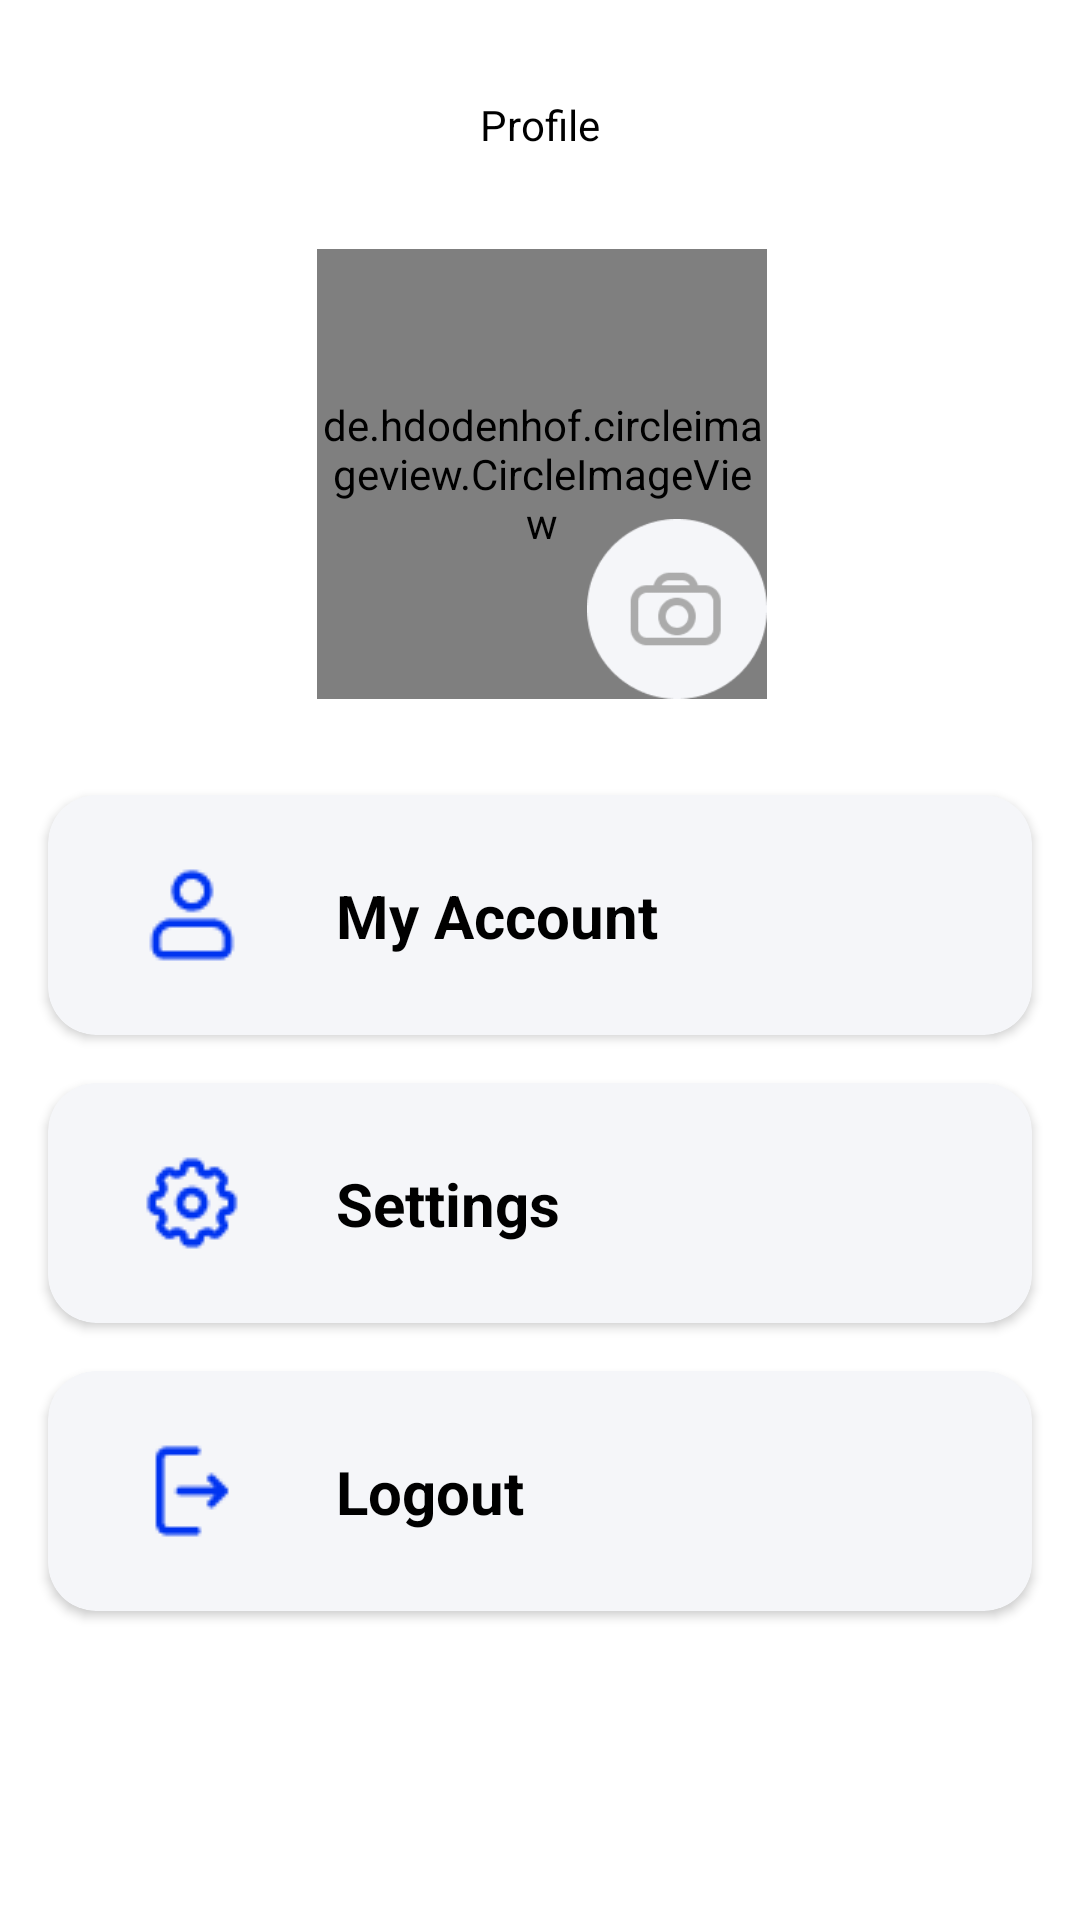

Where to tap for icons on this 1080w x 1920h app screen, as point (x, y):
change: point (677, 609)
profile: point (192, 915)
